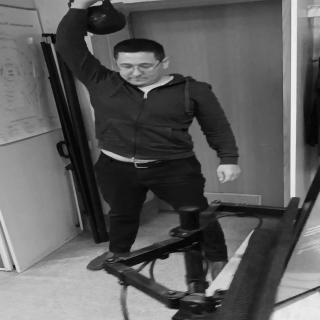kettlebell: (70, 1, 128, 37)
